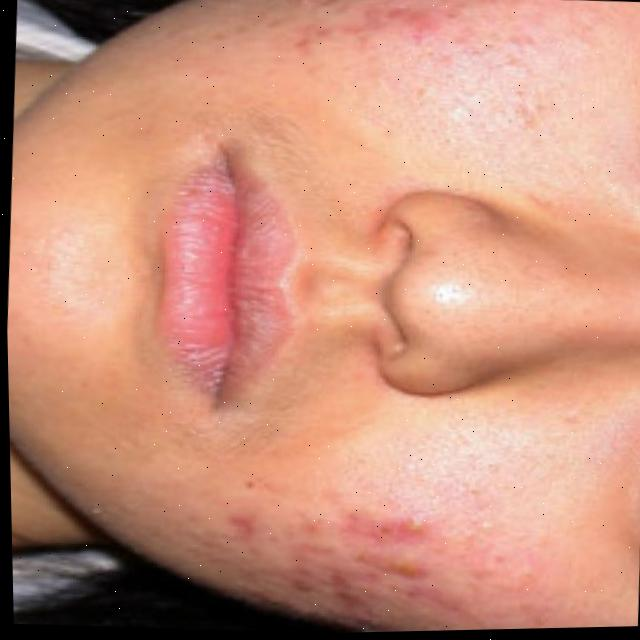Acne: (177, 460, 465, 636), (309, 0, 519, 134)
